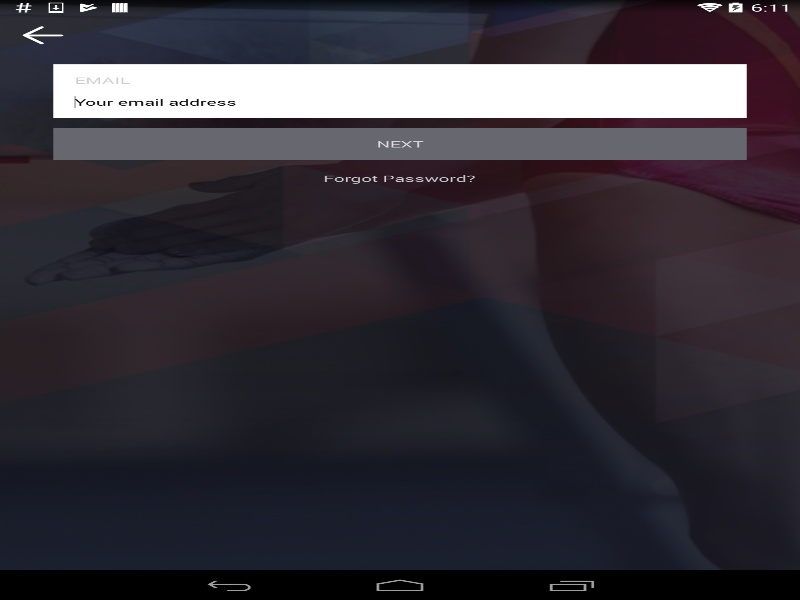Button: (53, 128, 746, 160), (0, 15, 84, 54)
Input: (53, 96, 746, 108)
